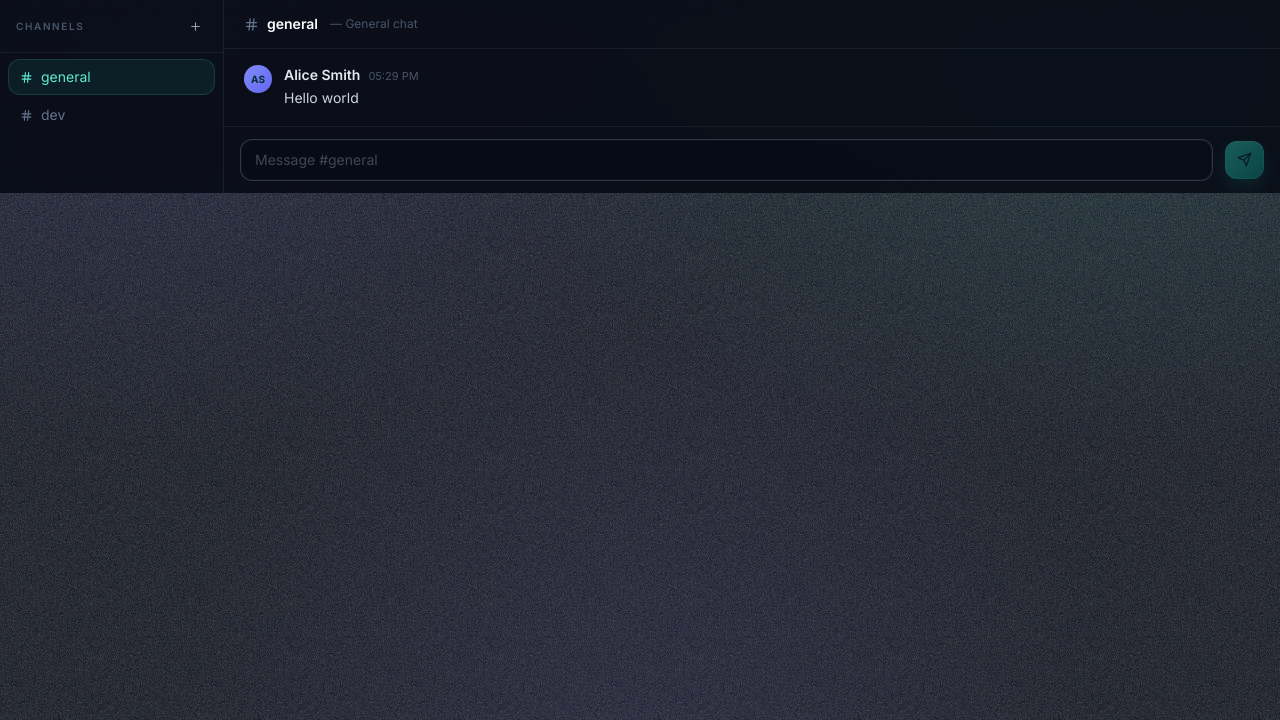
Test case: ChatPanel › shows create channel form on + click
What coordinates should you click on to do the following:
click the button titled "new channel"
I would click on:
 (195, 26)
Its box is x1=183 y1=14 x2=207 y2=38.
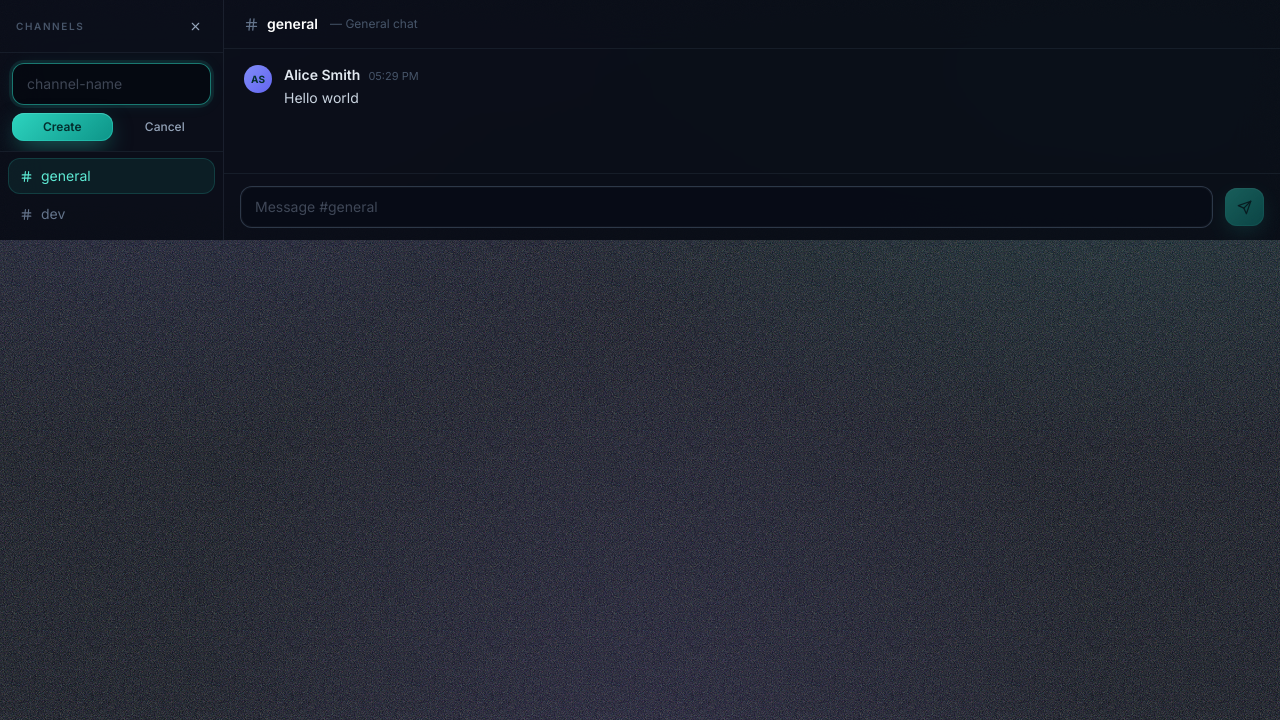
Now the field with placeholder "channel-name" is shown, box x1=12 y1=63 x2=211 y2=105
